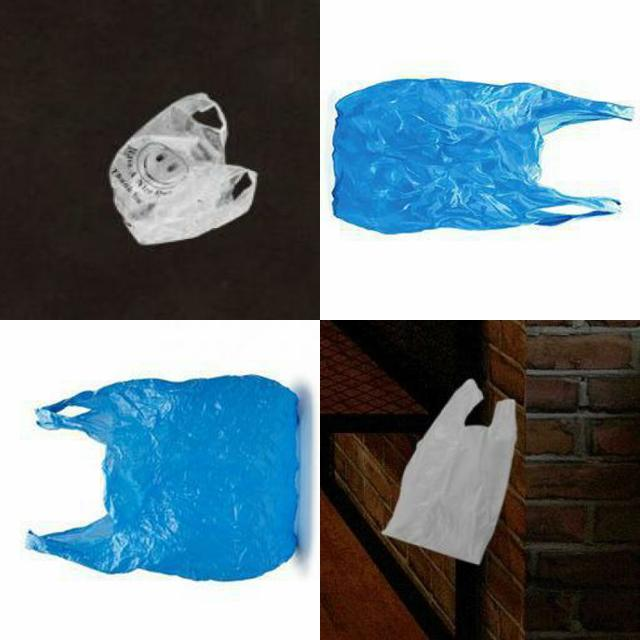Single-layer Plastic: (26, 375, 299, 581), (332, 79, 632, 234), (382, 379, 516, 564), (109, 92, 258, 245)
